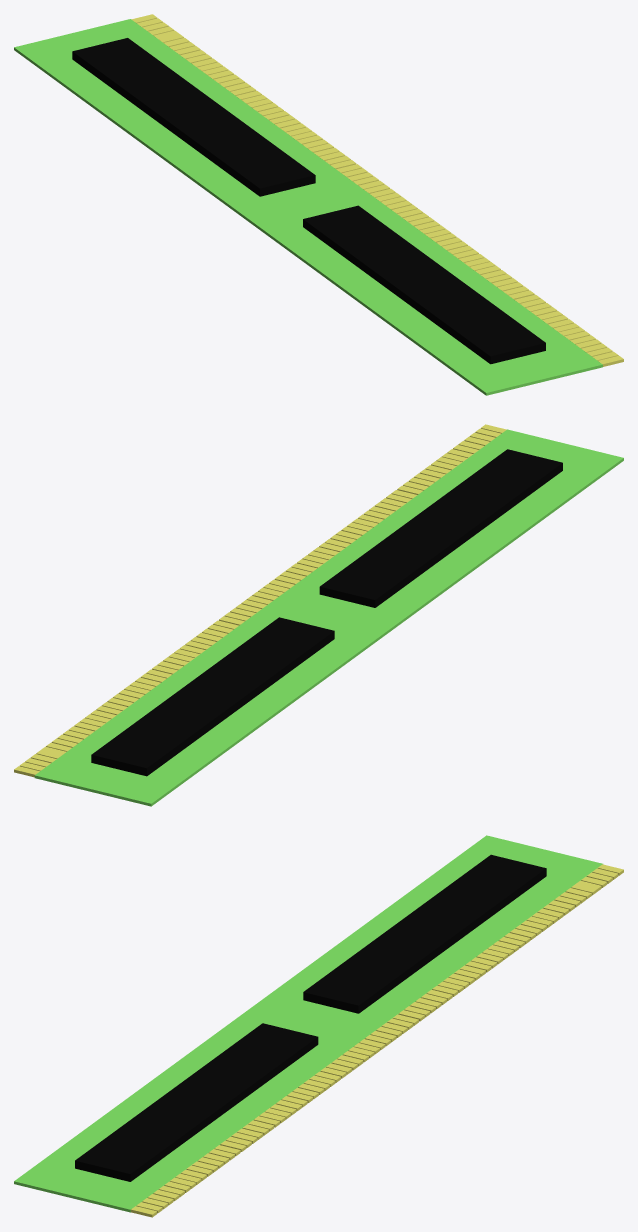
Rendered from RAM.fbx.
3 renders of one model, top to bottom at view 1: azimuth 30°, elevation 25°; view 2: azimuth 150°, elevation 25°; view 3: azimuth 330°, elevation 25°, orthographic.
Parts seen in each view (by area): view 1: Куб.173; view 2: Куб.173; view 3: Куб.173.
Part boxes in pixels (box(x1,y1,x2,y2)): Куб.173: box(14, 14, 623, 395); Куб.173: box(14, 424, 623, 806); Куб.173: box(14, 835, 623, 1217).
Bounding box in the file's own units: 237 × 17.85 × 1402.
